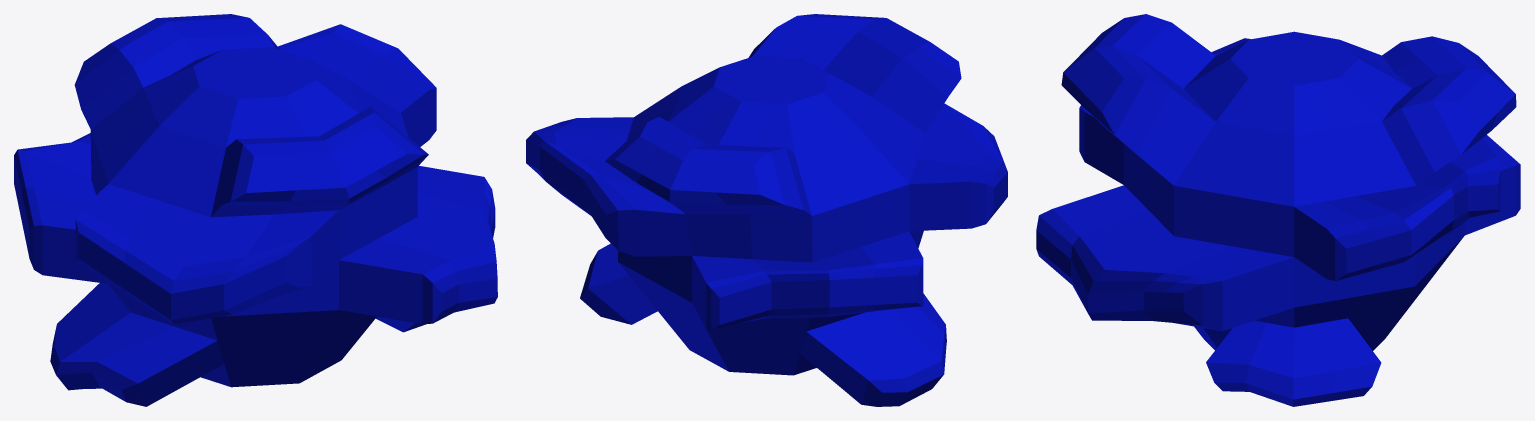
Rendered from propCoral1.fbx.
The picture shows the model from 3 angles, left to right: view 1: azimuth 30°, elevation 25°; view 2: azimuth 150°, elevation 25°; view 3: azimuth 270°, elevation 25°; orthographic projection. The views are drawn at different scales.
Parts seen in each view (by area): view 1: Coral1; view 2: Coral1; view 3: Coral1.
Part boxes in pixels (<box>): Coral1: <box>14,14,497,406</box>; Coral1: <box>526,14,1007,406</box>; Coral1: <box>1036,14,1520,406</box>.
Size of the model in its own units: 153 by 103 by 155.
